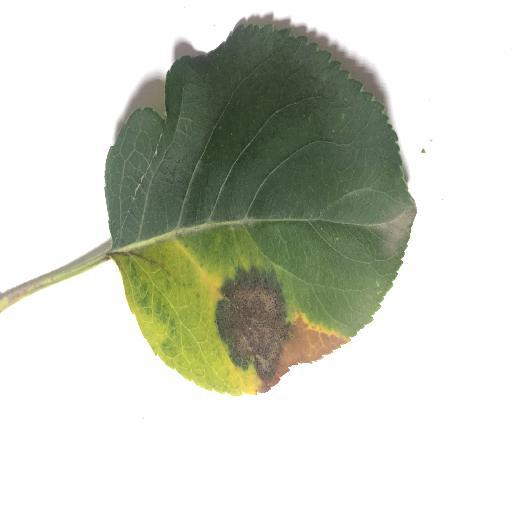Brown_Spot: (189, 268, 347, 401)
